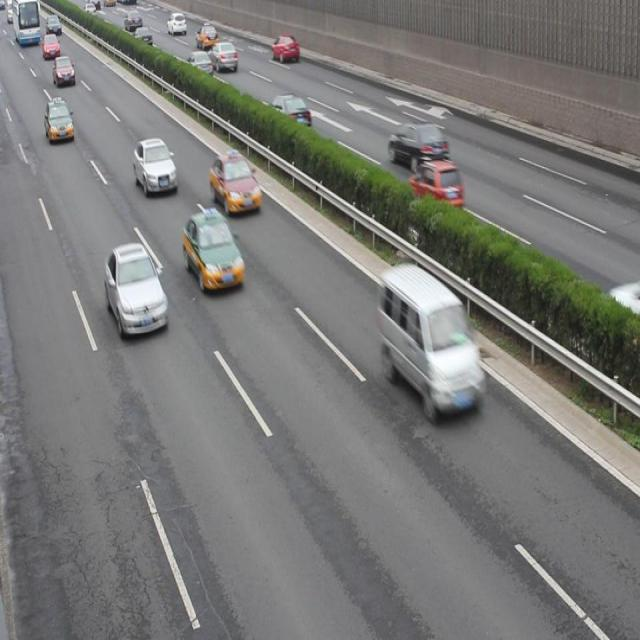car: (104, 243, 167, 339), (182, 210, 244, 295), (210, 150, 262, 216), (386, 121, 448, 171), (407, 159, 462, 214), (132, 137, 178, 196), (268, 93, 311, 132), (45, 99, 74, 143), (208, 41, 238, 74), (186, 49, 212, 78), (272, 34, 298, 63), (53, 55, 76, 86), (196, 21, 217, 50), (133, 27, 154, 49), (167, 13, 186, 36), (43, 34, 59, 60)
truck: (379, 263, 484, 421)
